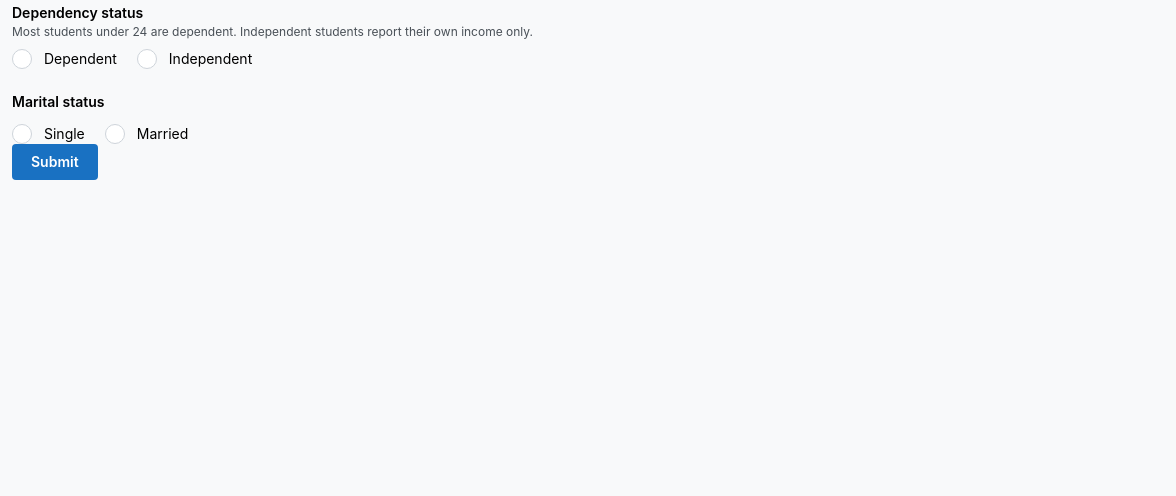
Scenario: StatusStep › asks for spouse details once the user chooses Married
Click the radio button labelled "Married": (115, 134) [105, 124, 125, 144]
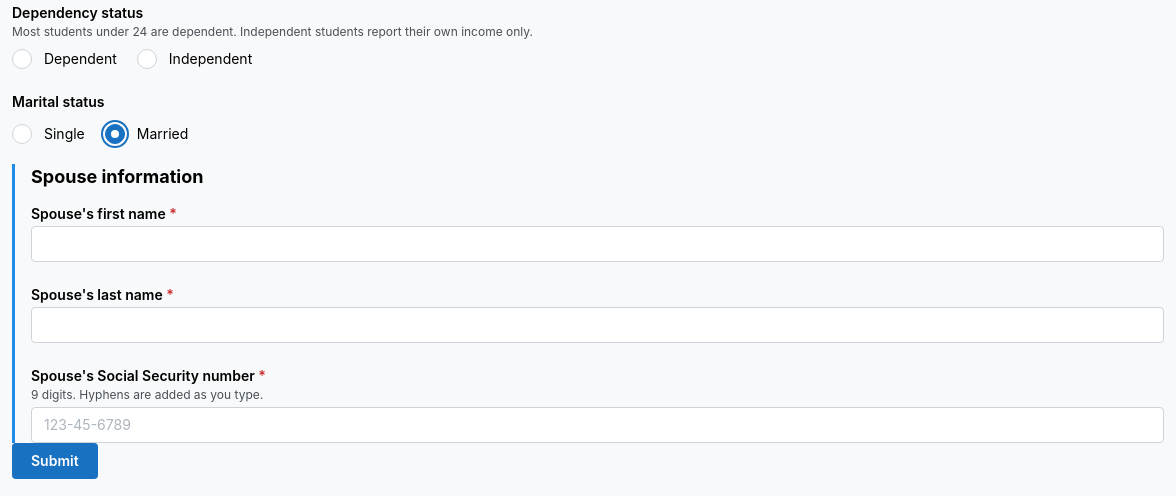
Expected: the heading "Spouse information" is shown, [31, 166, 203, 187]
Expected: the field labelled "Spouse's first name *" is shown, [31, 226, 1164, 262]
Expected: the field labelled "Spouse's last name *" is shown, [31, 307, 1164, 343]
